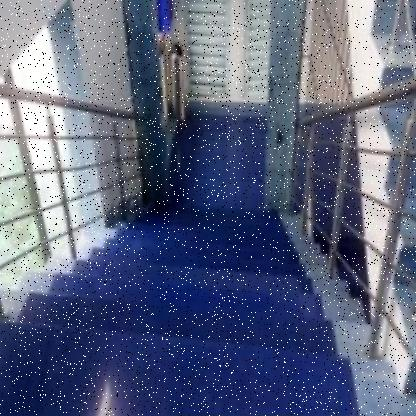stair_down: (22, 231, 324, 384)
